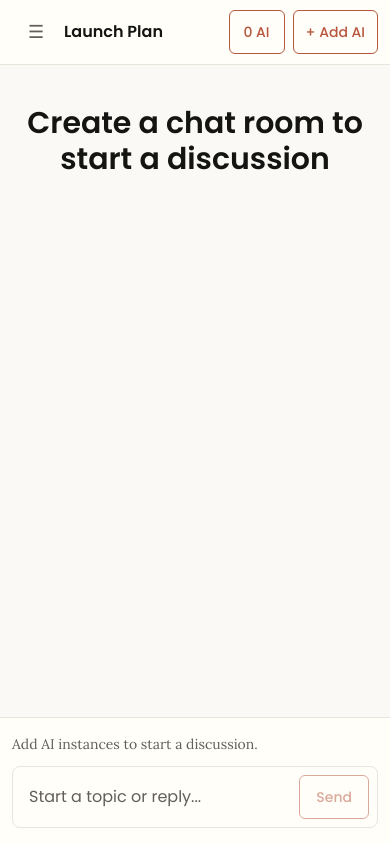
Scenario: ChatShell › selects a room from the mobile drawer and closes it
Check: the heading "Launch Plan" is shown, box [64,20,163,43]
Click the button named "Open chat room navigation" at (36, 32), box [12,8,60,56]
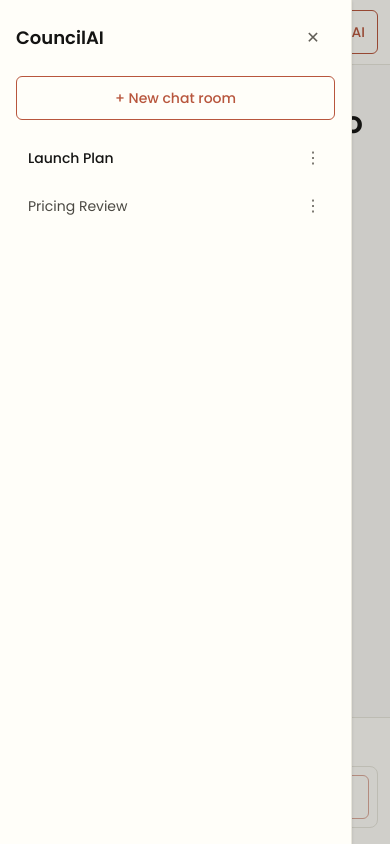
Click the button "Pricing Review" at (78, 206), box [16,184,287,228]
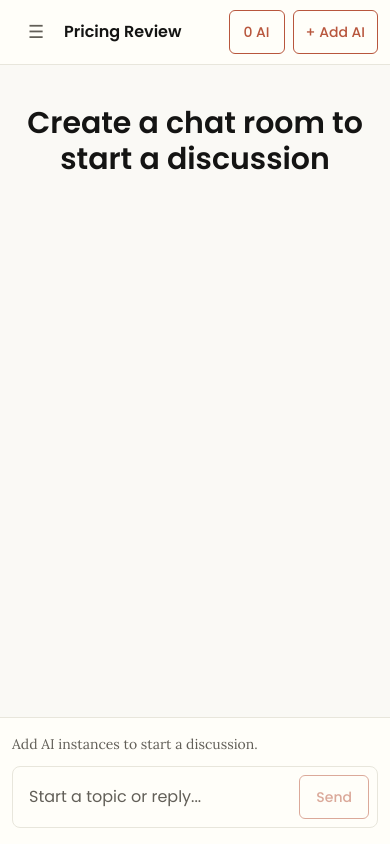
Check: the heading "Pricing Review" is shown, box [64,20,182,43]
